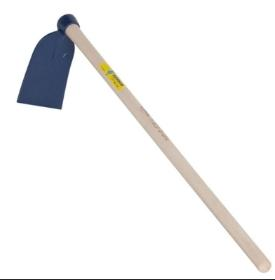HOUE: (0, 4, 272, 280)
